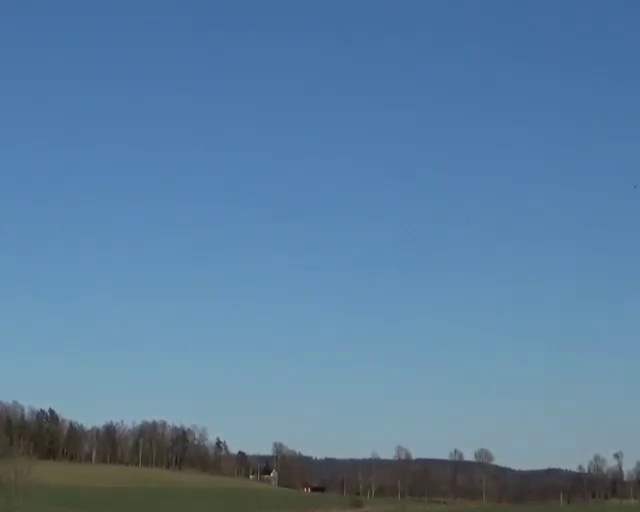BIRD: (633, 182, 640, 191)
